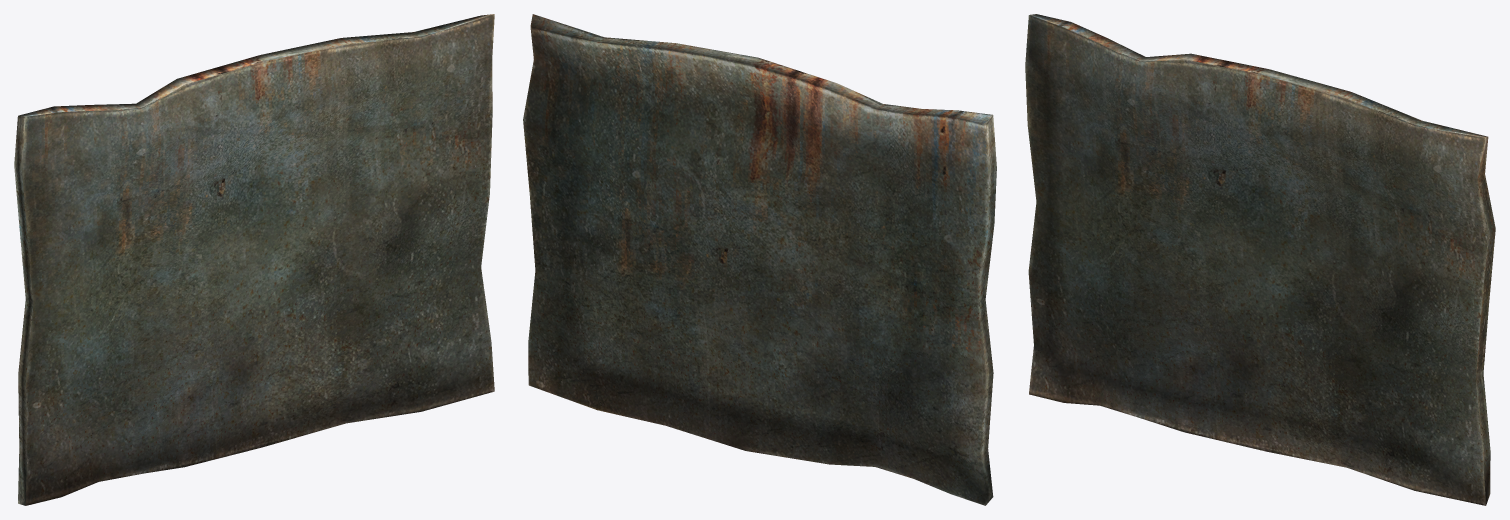
The model's file is metal_slab.dae.
3 renders of one model, left to right at view 1: azimuth 30°, elevation 25°; view 2: azimuth 150°, elevation 25°; view 3: azimuth 330°, elevation 25°, orthographic. The views are drawn at different scales.
Parts seen in each view (by area): view 1: metal_slab; view 2: metal_slab; view 3: metal_slab.
Boxes of the visible parts, <box> form: metal_slab: <box>14,14,494,505</box>; metal_slab: <box>523,14,996,505</box>; metal_slab: <box>1025,14,1495,505</box>.
Bounding box in the file's own units: 60.48 × 48 × 3.93.
